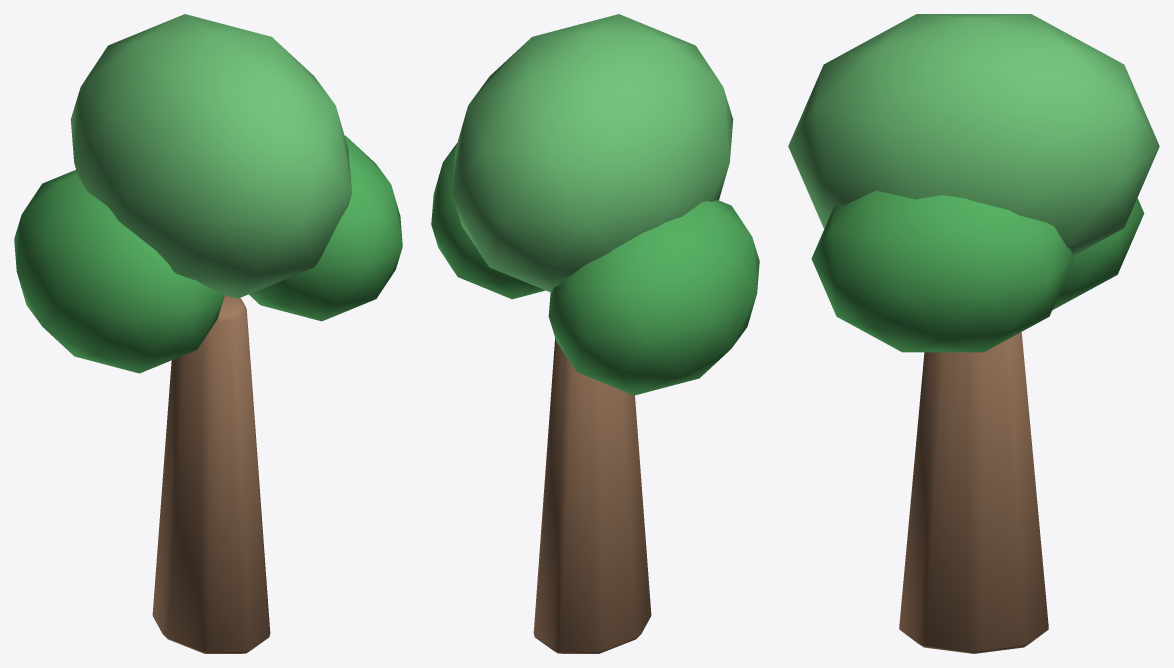
The model's file is tree-young.glb.
3 views of the same model, side by side, from view 1: azimuth 30°, elevation 25°; view 2: azimuth 150°, elevation 25°; view 3: azimuth 270°, elevation 25° (orthographic). The views are drawn at different scales.
Visible parts, largest first — view 1: tree-young; view 2: tree-young; view 3: tree-young.
Boxes of the visible parts, x1,y1,x2,y2 form: tree-young: (14,14,402,653); tree-young: (431,14,759,653); tree-young: (788,14,1159,653).
Size of the model in its own units: 0.66 by 1.2 by 0.66.
